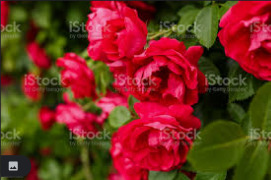RedRose: (104, 109, 203, 177), (129, 38, 206, 110), (80, 1, 149, 63)
